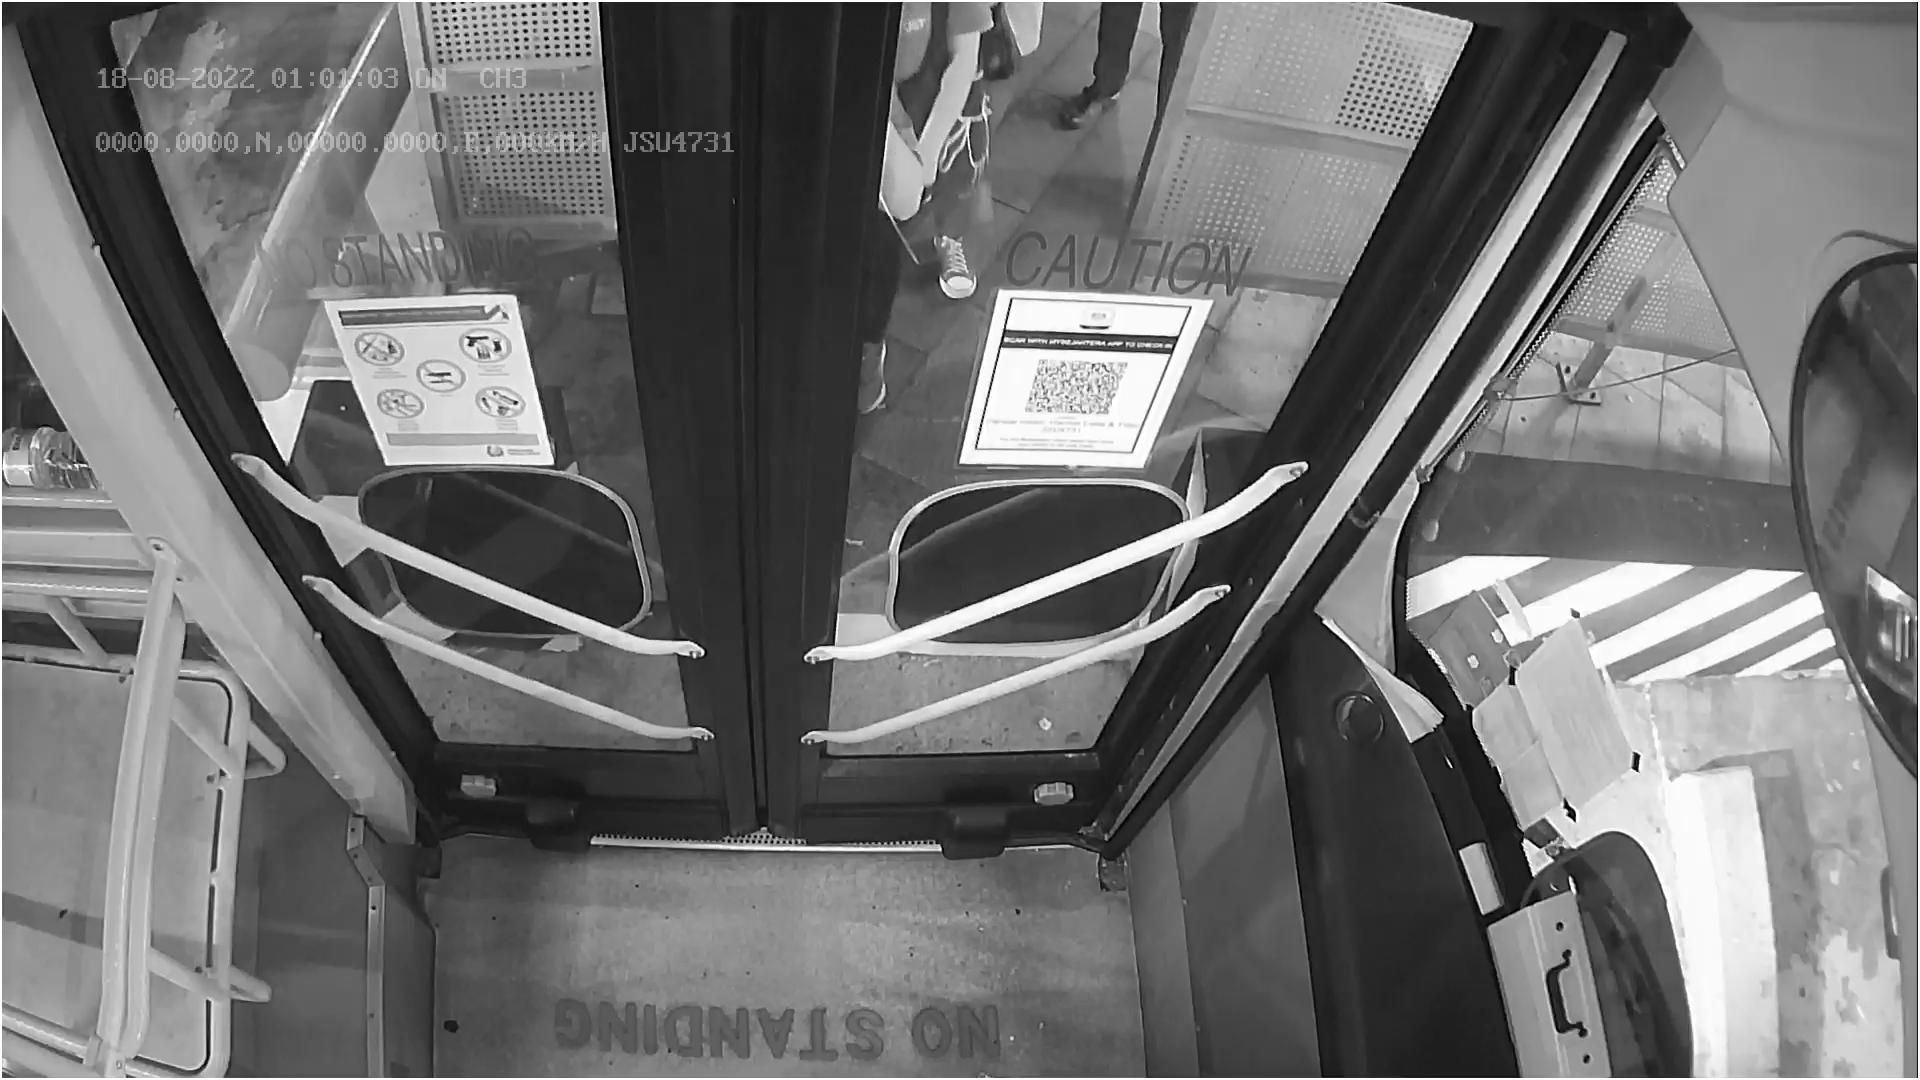close: (131, 0, 1448, 157)
